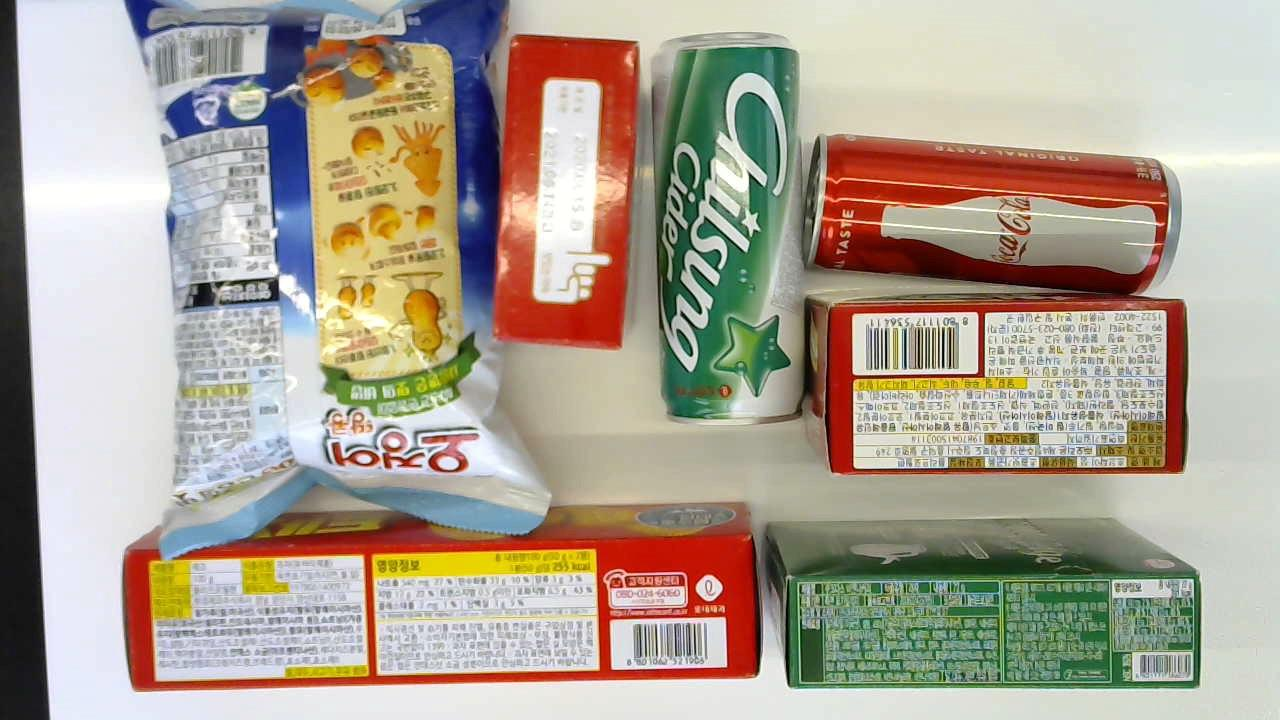chocopie: (809, 296, 1187, 475)
cidar: (649, 30, 807, 423)
coke: (800, 132, 1181, 290)
couque_coffee: (763, 516, 1205, 690)
couque_white: (490, 32, 642, 351)
squid_peanut: (119, 0, 554, 554)
zec: (124, 499, 762, 693)
